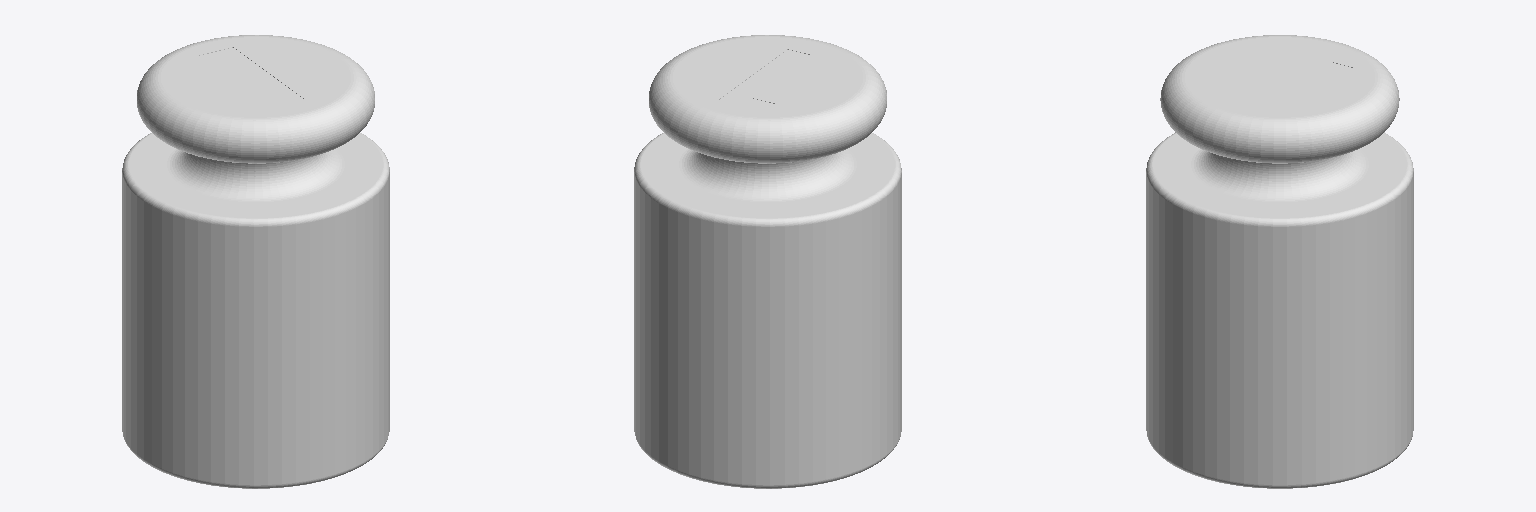
The model's file is Test_Weight_1G.obj.
3 views of the same model, side by side, from view 1: azimuth 30°, elevation 25°; view 2: azimuth 150°, elevation 25°; view 3: azimuth 270°, elevation 25° (orthographic).
Parts seen in each view (by area): view 1: mesh2, mesh7, mesh8, mesh4, mesh5, mesh3, mesh10, mesh1; view 2: mesh2, mesh7, mesh8, mesh4, mesh5, mesh3, mesh10, mesh1; view 3: mesh2, mesh7, mesh8, mesh4, mesh5, mesh3, mesh10, mesh1.
Boxes of the visible parts, box(x1,y1,x2,y2) form: mesh2: box(122, 174, 389, 484); mesh7: box(137, 35, 374, 163); mesh8: box(161, 37, 350, 117); mesh4: box(129, 134, 382, 217); mesh5: box(167, 149, 344, 201); mesh3: box(122, 133, 389, 226); mesh10: box(198, 48, 302, 103); mesh1: box(123, 436, 387, 488); mesh2: box(634, 174, 901, 484); mesh7: box(649, 35, 886, 163); mesh8: box(673, 37, 862, 117); mesh4: box(641, 134, 894, 217); mesh5: box(679, 149, 856, 201); mesh3: box(634, 133, 901, 226); mesh10: box(718, 50, 808, 108); mesh1: box(636, 436, 900, 488); mesh2: box(1146, 173, 1413, 484); mesh7: box(1160, 35, 1399, 163); mesh8: box(1185, 37, 1374, 117); mesh4: box(1153, 134, 1406, 217); mesh5: box(1191, 149, 1368, 201); mesh3: box(1146, 132, 1413, 226); mesh10: box(1212, 62, 1353, 83); mesh1: box(1147, 436, 1412, 488).
Size of the model in its own units: 0.005 by 0.0074 by 0.005.